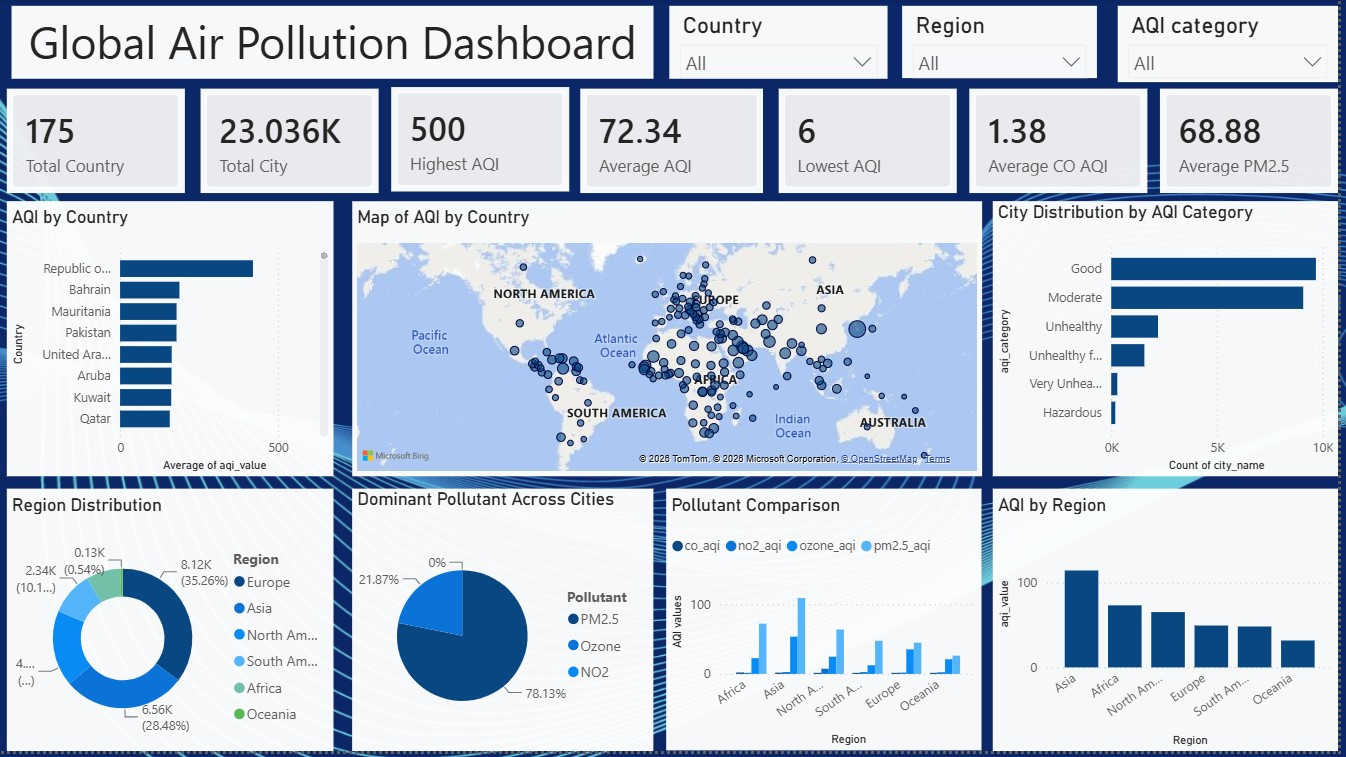

What the dashboard file says about the page in this screenshot:
{"tool":"powerbi","page":{"name":"Page 1","canvas":[1280,720],"ordinal":0},"visuals":[{"type":"clusteredBarChart","title":"AQI by Country","fields":{"Category":["global_air_pollution_data (1).country_name"],"Y":["Avg(global_air_pollution_data (1).aqi_value)"]},"box":[7.5,194.2,312.2,262.9],"z":0},{"type":"clusteredColumnChart","title":"AQI by Region","fields":{"Category":["global_air_pollution_data (1).Region"],"Y":["Avg(global_air_pollution_data (1).aqi_value)"]},"box":[950,469,330.1,251],"z":1000},{"type":"cardVisual","fields":{"Data":["Count(global_air_pollution_data (1).country_name)"]},"box":[7.3,86.4,170,100],"z":2000},{"type":"cardVisual","fields":{"Data":["Min(global_air_pollution_data (1).aqi_value)"]},"box":[745.4,86.6,170,100],"z":3000},{"type":"cardVisual","fields":{"Data":["Avg(global_air_pollution_data (1).pm2.5_aqi_value)"]},"box":[1109.9,86.6,170,100],"z":4000},{"type":"cardVisual","fields":{"Data":["Avg(global_air_pollution_data (1).co_aqi_value)"]},"box":[927.6,86.6,170,100],"z":5000},{"type":"cardVisual","fields":{"Data":["Avg(global_air_pollution_data (1).aqi_value)"]},"box":[555.7,86.6,175,100],"z":6000},{"type":"cardVisual","fields":{"Data":["Max(global_air_pollution_data (1).aqi_value)"]},"box":[374.9,85.1,170,100],"z":7000},{"type":"textbox","box":[12.4,7.7,614.1,69.6],"z":8000},{"type":"slicer","fields":{"Values":["global_air_pollution_data (1).country_name"]},"box":[640.4,7.7,208.8,69.6],"z":9000},{"type":"slicer","fields":{"Values":["global_air_pollution_data (1).Region"]},"box":[863.1,7.7,186.2,69.2],"z":10000},{"type":"slicer","fields":{"Values":["global_air_pollution_data (1).aqi_category"]},"box":[1069.7,7.6,210.6,72.7],"z":11000},{"type":"map","title":"Map of AQI by Country","fields":{"Category":["global_air_pollution_data (1).country_name"],"Size":["Avg(global_air_pollution_data (1).aqi_value)"]},"box":[337.6,194.2,602,262.9],"z":12000},{"type":"clusteredColumnChart","title":"Pollutant Comparison ","fields":{"Y":["Avg(global_air_pollution_data (1).co_aqi_value)","Avg(global_air_pollution_data (1).no2_aqi_value)","Avg(global_air_pollution_data (1).ozone_aqi_value)","Avg(global_air_pollution_data (1).pm2.5_aqi_value)"],"Category":["global_air_pollution_data (1).Region"]},"box":[637.9,469.7,301.5,250],"z":13000},{"type":"donutChart","title":"Region Distribution","fields":{"Y":["CountNonNull(global_air_pollution_data (1).Region)"],"Category":["global_air_pollution_data (1).Region"]},"box":[7.5,469,312.2,251],"z":14000},{"type":"pieChart","title":"Dominant Pollutant Across Cities","fields":{"Category":["global_air_pollution_data (1).Dominant Pollutant"],"Y":["CountNonNull(global_air_pollution_data (1).city_name)"]},"box":[337.6,469,288.3,251],"z":15000},{"type":"clusteredBarChart","title":"City Distribution by AQI Category","fields":{"Category":["global_air_pollution_data (1).aqi_category"],"Y":["CountNonNull(global_air_pollution_data (1).city_name)"]},"box":[950,194.2,330.1,262.9],"z":16000},{"type":"cardVisual","fields":{"Data":["Count(global_air_pollution_data (1).city_name)"]},"box":[192.7,86.6,170,100],"z":17000}]}

Visuals, with their boxes in screenshot pixels (x1, y1, x2, y2), scaled from the page's 1280x720 canvas onto the 1346x757 screenshot:
"AQI by Country" clusteredBarChart: box=[8, 204, 336, 481]
"AQI by Region" clusteredColumnChart: box=[999, 493, 1345, 756]
cardVisual - Count(global_air_pollution_data (1).country_name): box=[8, 91, 186, 196]
cardVisual - Min(global_air_pollution_data (1).aqi_value): box=[784, 91, 963, 196]
cardVisual - Avg(global_air_pollution_data (1).pm2.5_aqi_value): box=[1167, 91, 1345, 196]
cardVisual - Avg(global_air_pollution_data (1).co_aqi_value): box=[975, 91, 1154, 196]
cardVisual - Avg(global_air_pollution_data (1).aqi_value): box=[584, 91, 768, 196]
cardVisual - Max(global_air_pollution_data (1).aqi_value): box=[394, 89, 573, 195]
textbox: box=[13, 8, 659, 81]
slicer - global_air_pollution_data (1).country_name: box=[673, 8, 893, 81]
slicer - global_air_pollution_data (1).Region: box=[908, 8, 1103, 81]
slicer - global_air_pollution_data (1).aqi_category: box=[1125, 8, 1345, 84]
"Map of AQI by Country" map: box=[355, 204, 988, 481]
"Pollutant Comparison " clusteredColumnChart: box=[671, 494, 988, 756]
"Region Distribution" donutChart: box=[8, 493, 336, 756]
"Dominant Pollutant Across Cities" pieChart: box=[355, 493, 658, 756]
"City Distribution by AQI Category" clusteredBarChart: box=[999, 204, 1345, 481]
cardVisual - Count(global_air_pollution_data (1).city_name): box=[203, 91, 381, 196]
